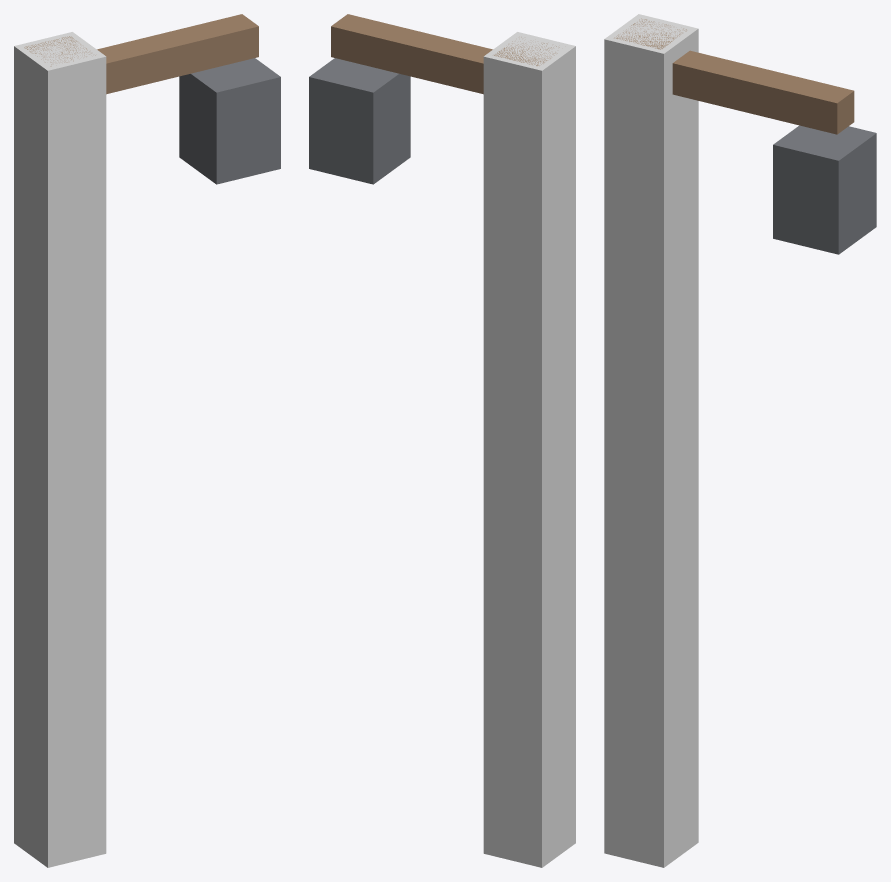
File: Lantern_Post.fbx
3 renders of one model, left to right at view 1: azimuth 30°, elevation 25°; view 2: azimuth 150°, elevation 25°; view 3: azimuth 330°, elevation 25°, orthographic. The views are drawn at different scales.
Parts seen in each view (by area): view 1: COL_Post, Lantern_Post_Mesh; view 2: COL_Post, Lantern_Post_Mesh; view 3: COL_Post, Lantern_Post_Mesh.
Boxes of the visible parts, x1=… form: COL_Post: x1=14, y1=32, x2=106, y2=867; Lantern_Post_Mesh: x1=24, y1=14, x2=280, y2=184; COL_Post: x1=483, y1=32, x2=575, y2=867; Lantern_Post_Mesh: x1=309, y1=14, x2=559, y2=184; COL_Post: x1=604, y1=14, x2=698, y2=867; Lantern_Post_Mesh: x1=614, y1=18, x2=876, y2=254.
Size of the model in its own units: 0.79 by 2.6 by 0.22.
